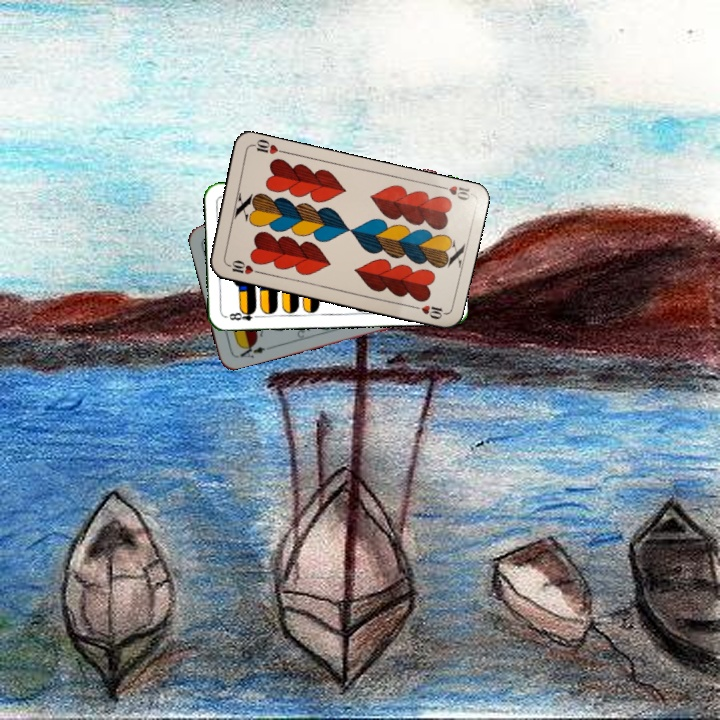E8: (222, 306, 263, 323)
EA: (236, 339, 273, 361)
H10: (434, 181, 474, 203), (222, 256, 262, 277)
